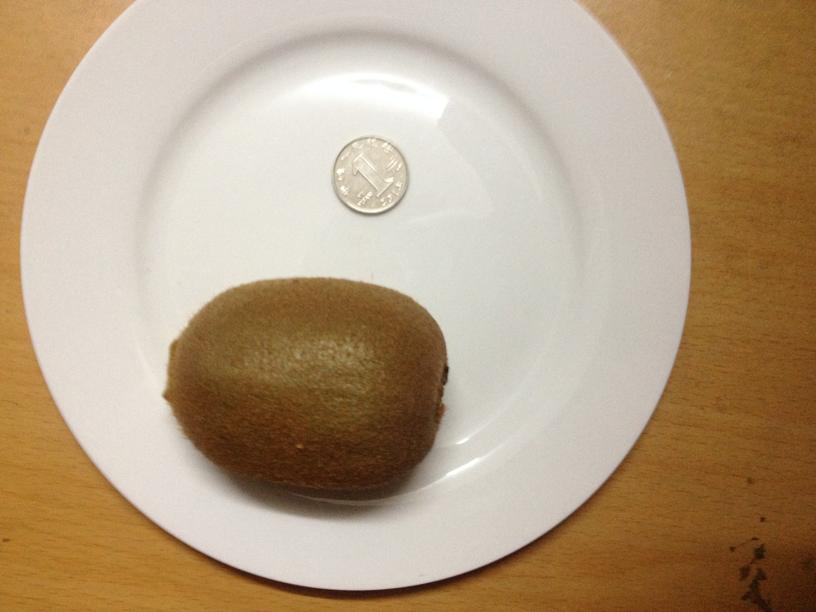coin: (327, 134, 410, 214)
qiwi: (157, 271, 444, 487)
